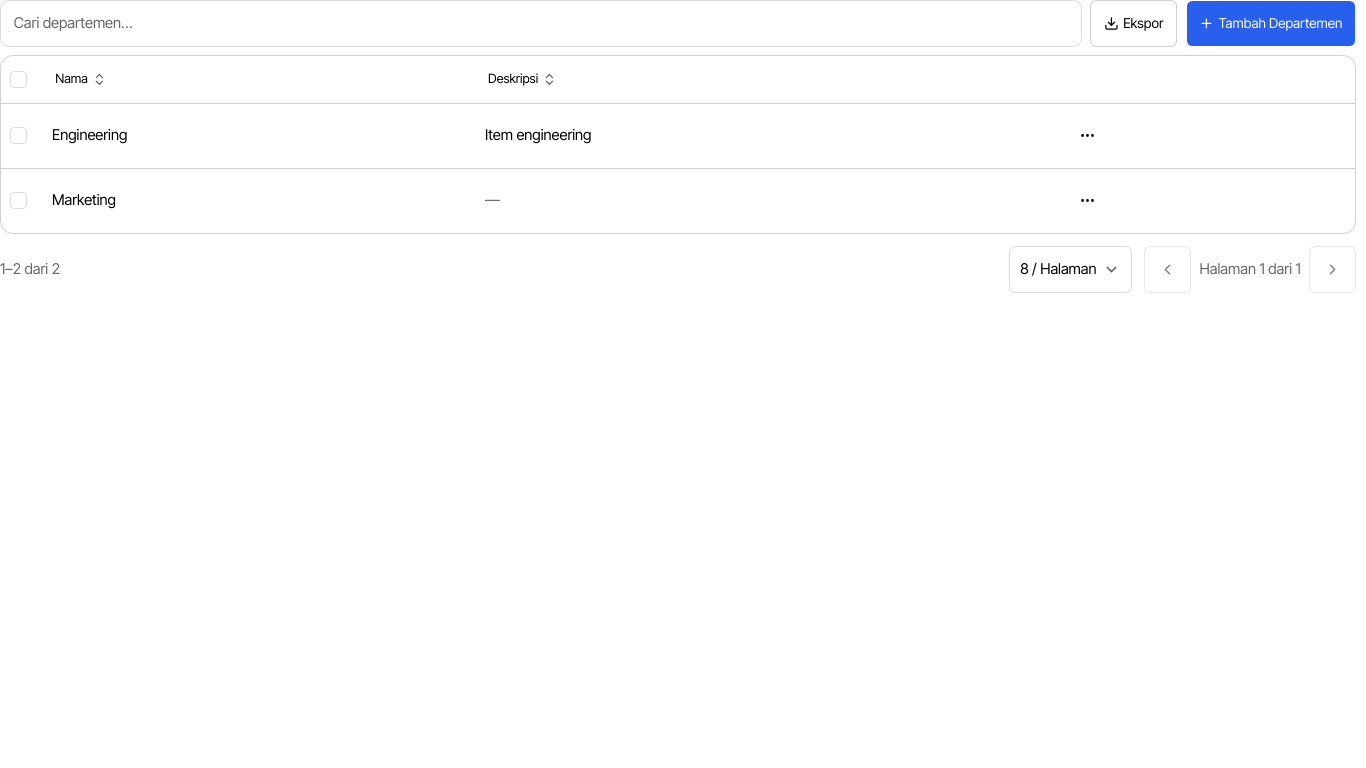
Scenario: DepartmentsSection remainder › opens the edit dialog from the row menu
expect the text "Engineering" is shown: met, box [52, 126, 127, 144]
What coordinates should you click on to do the following:
click the button without text in the row of "Item engineering"
I would click on:
 (1088, 136)
Its box is [1064, 112, 1111, 159].
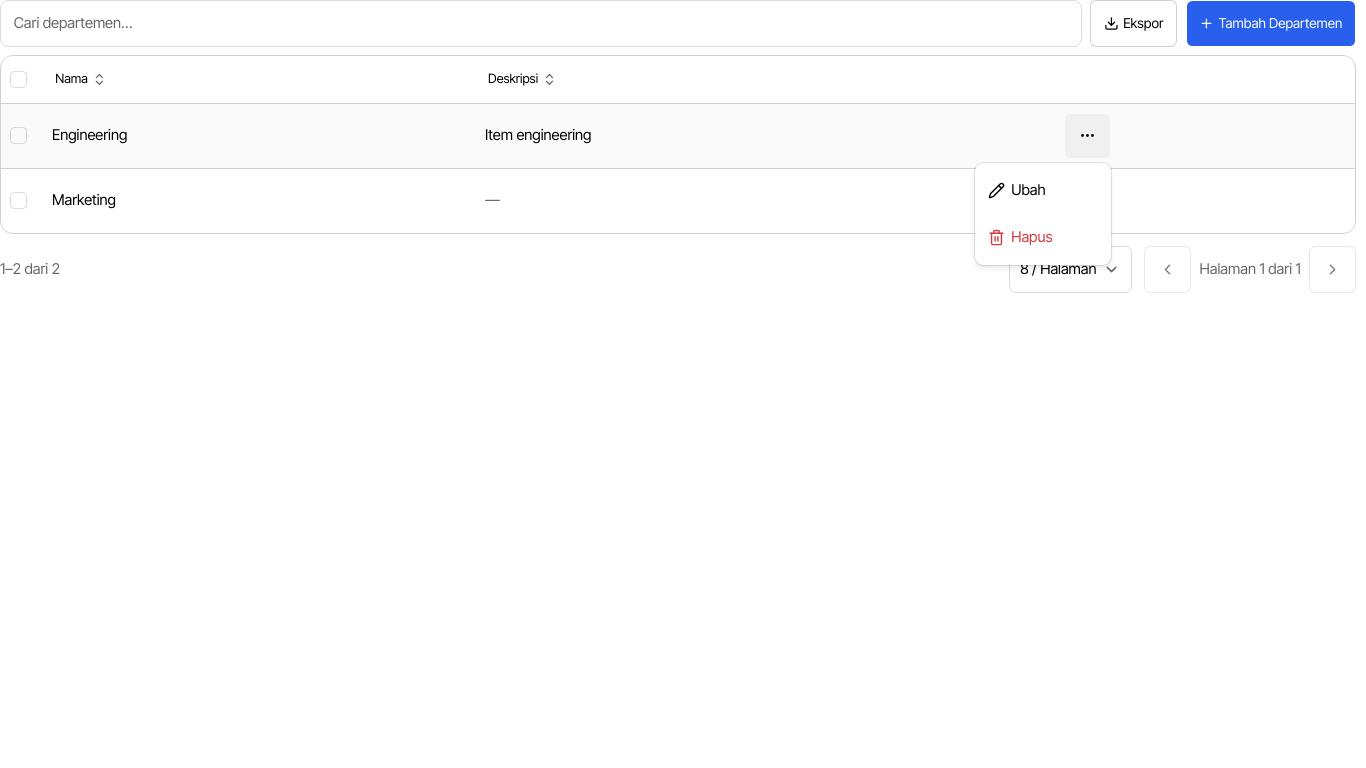
What coordinates should you click on to do the following:
click the menu item "Ubah"
I would click on:
 (1017, 190)
Its box is [988, 181, 1046, 199].
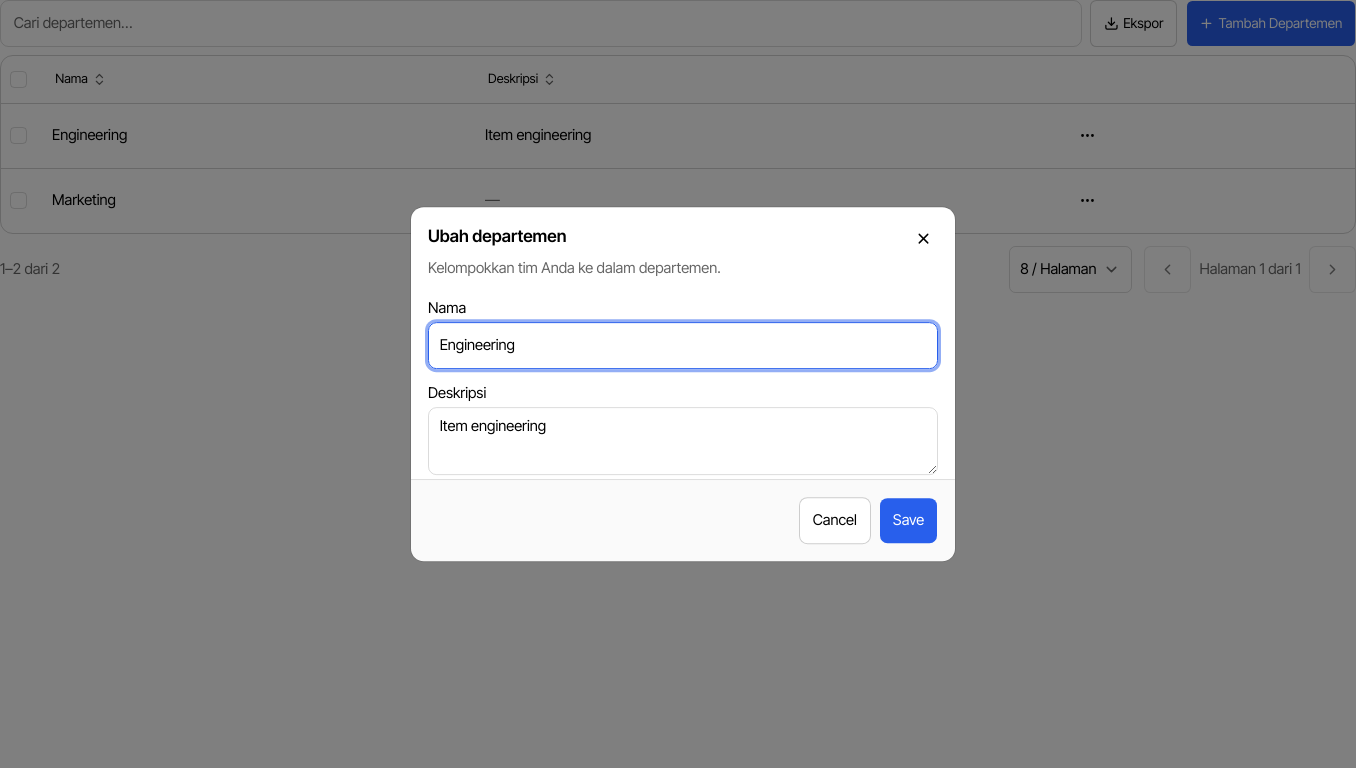
expect the dialog is shown: met, box [411, 207, 955, 561]
